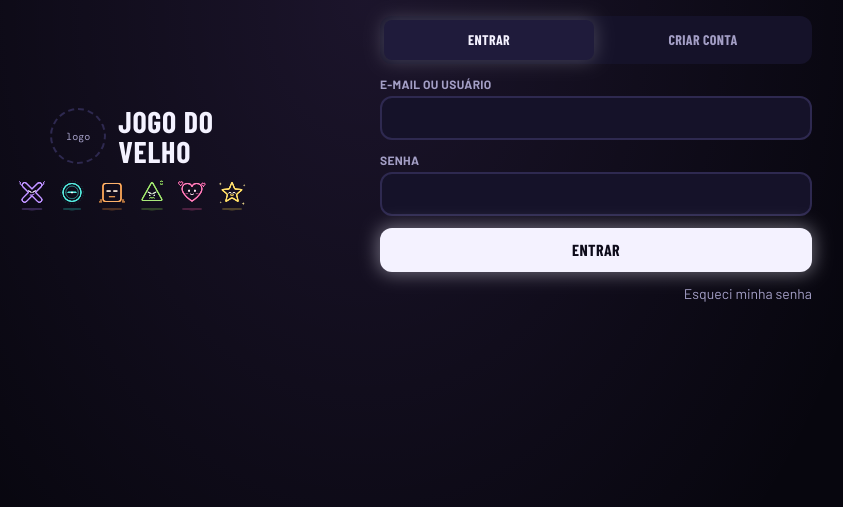
Test case: Entrar › só guarda a sessão quando o servidor confirma
In the field labelled "E-mail ou usuário": (596, 118) [380,96,812,140], type "vini"
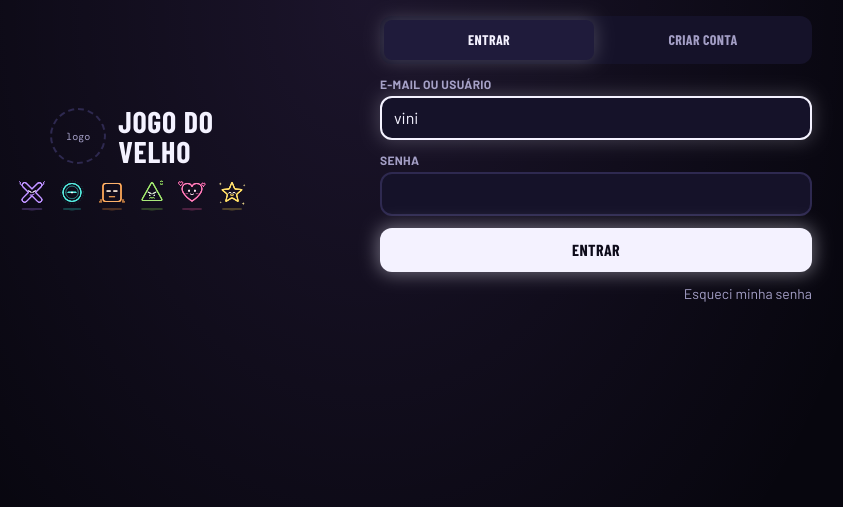
In the password field labelled "Senha": (596, 194) [380,172,812,216], type "segredo1"
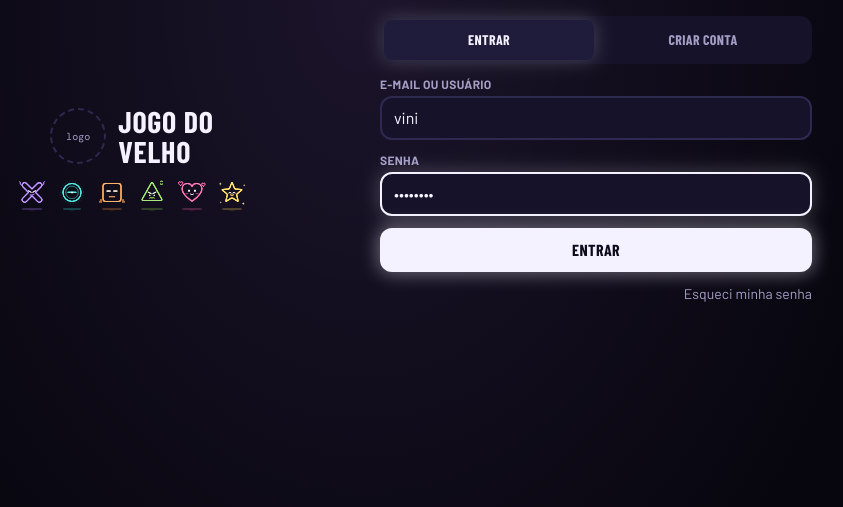
Click the button "Entrar": (596, 250) [380,228,812,272]
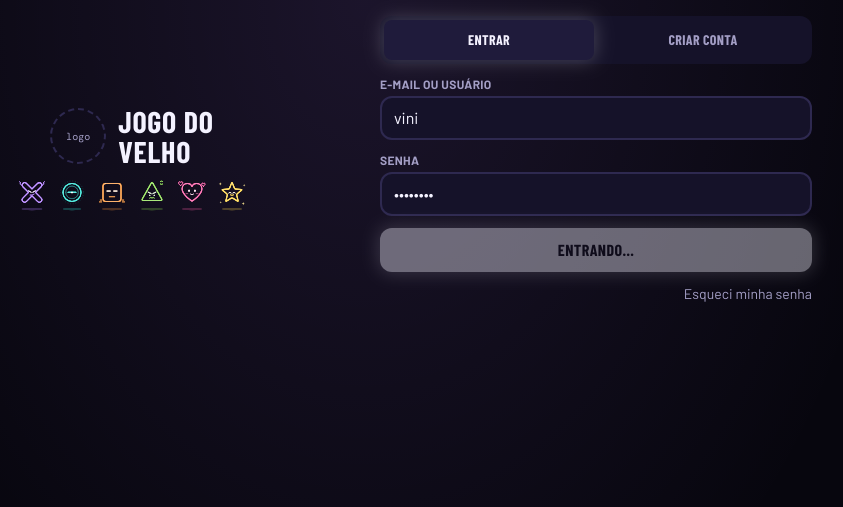
expect the button "Entrando…" is disabled: met, box [380,228,812,272]
